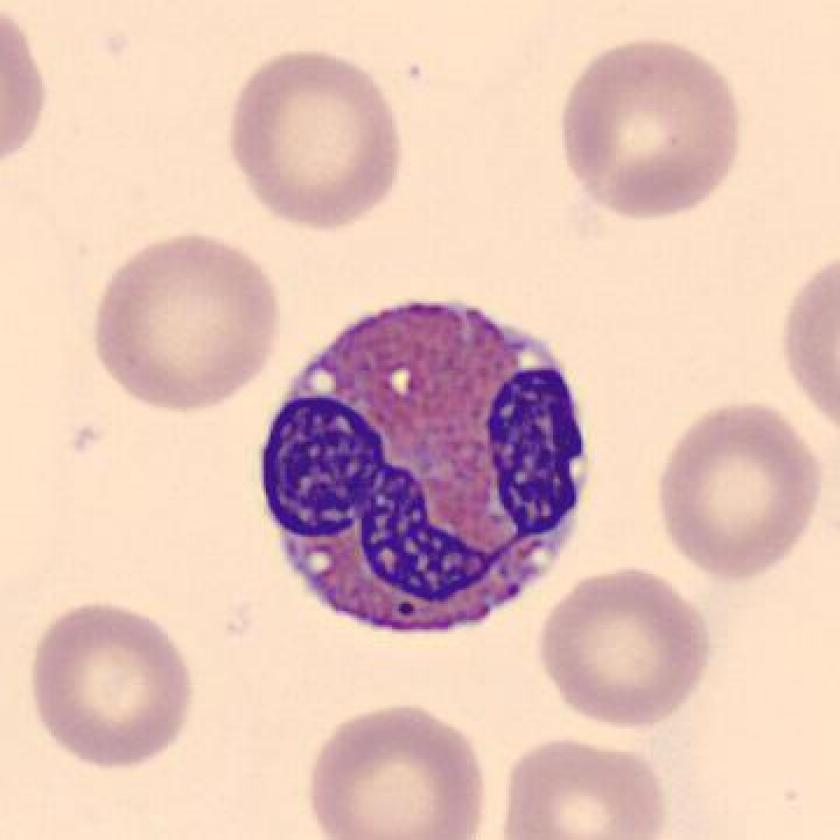eosinophil: (246, 286, 605, 647)
